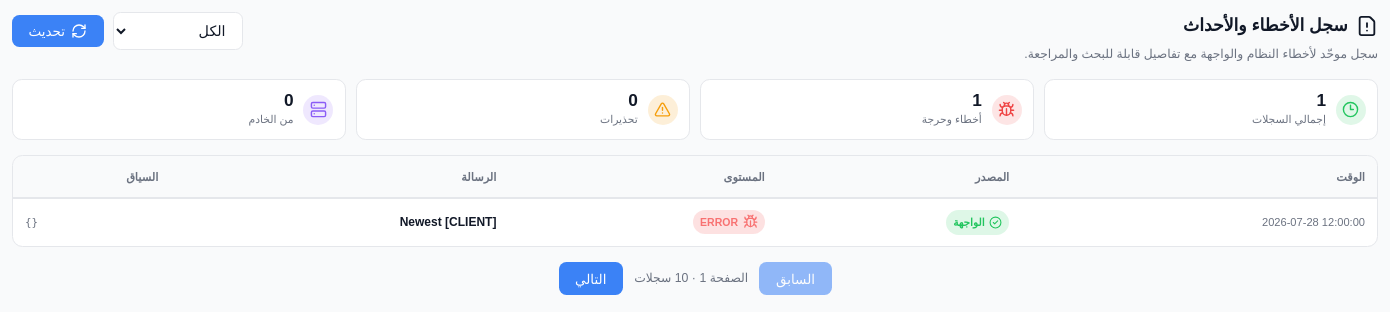
Test: LogViewer › uses the server cursor to load the next bounded page
Click the button with test id "next-log-page" at point(591, 279), box x1=558 y1=262 x2=623 y2=295
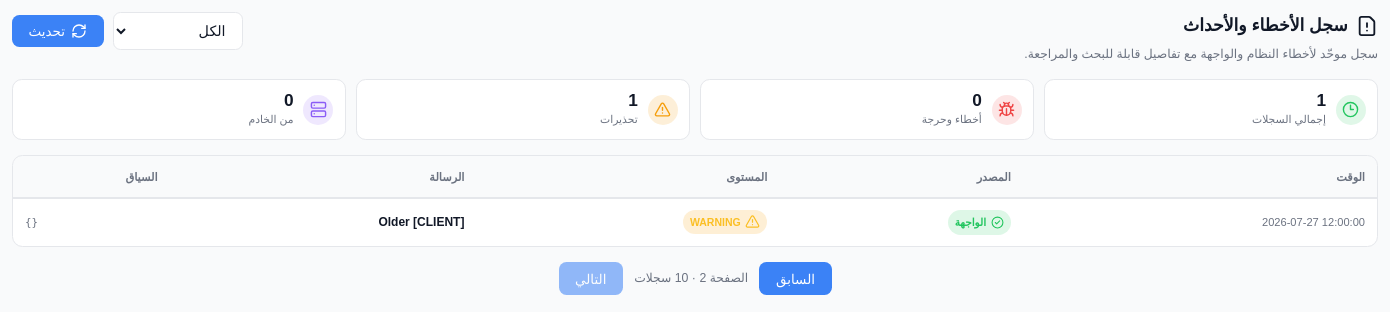
Now the text "[CLIENT] Older" is shown, box x1=170 y1=198 x2=476 y2=246
Now the text "الصفحة 2" is shown, box x1=634 y1=269 x2=748 y2=288
